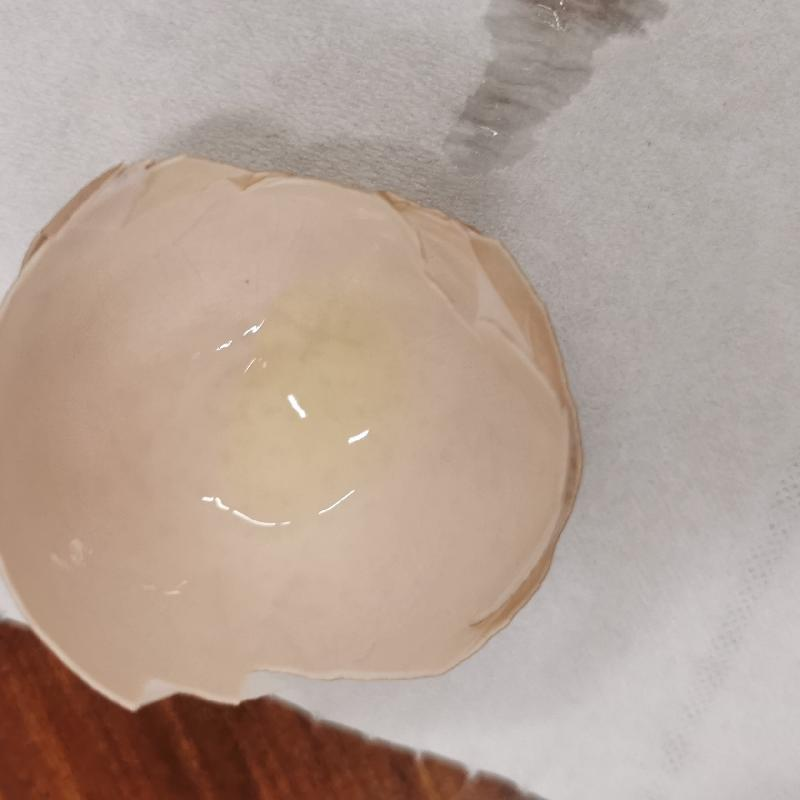eggshell: (4, 154, 583, 706)
